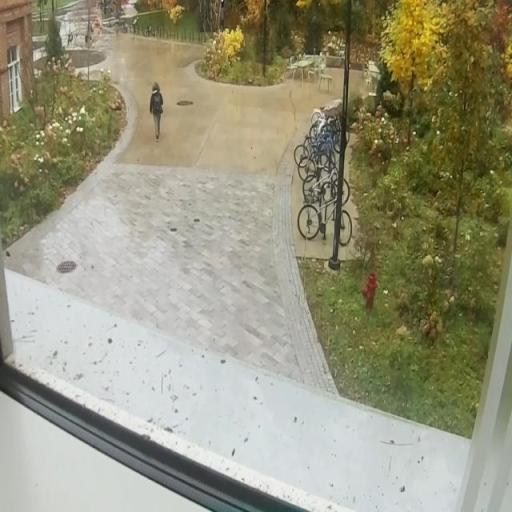pessoa: (149, 78, 165, 144)
